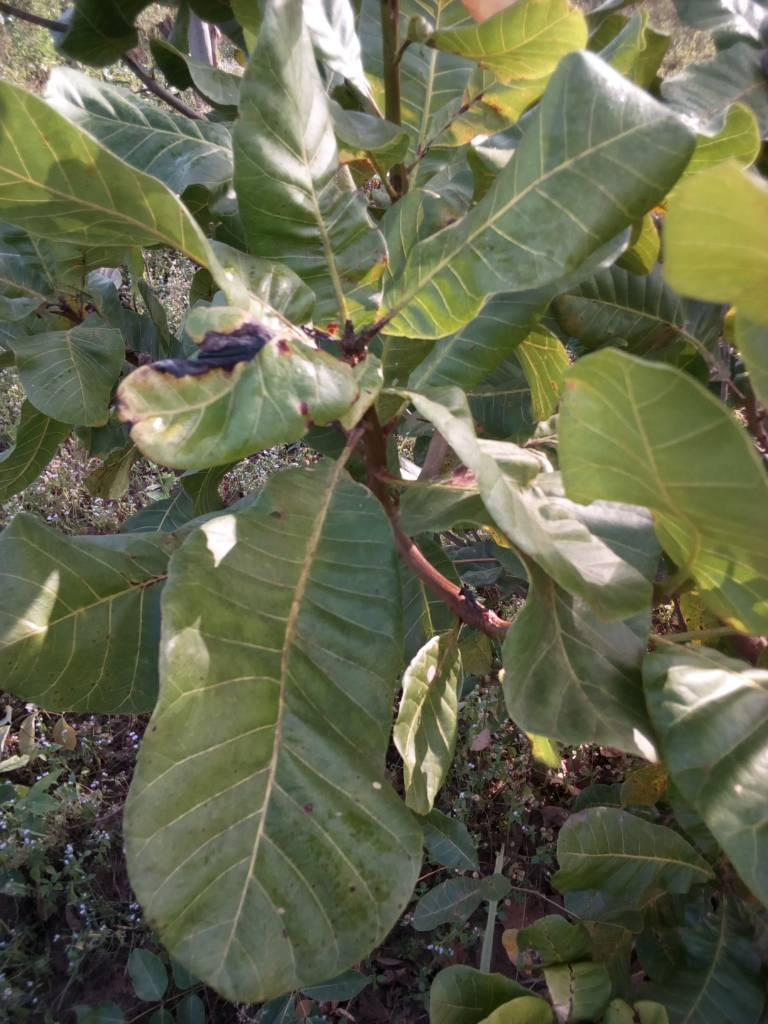Helopeltis anacardii: (121, 489, 410, 996), (379, 49, 660, 311), (388, 364, 655, 614), (115, 314, 375, 466)
